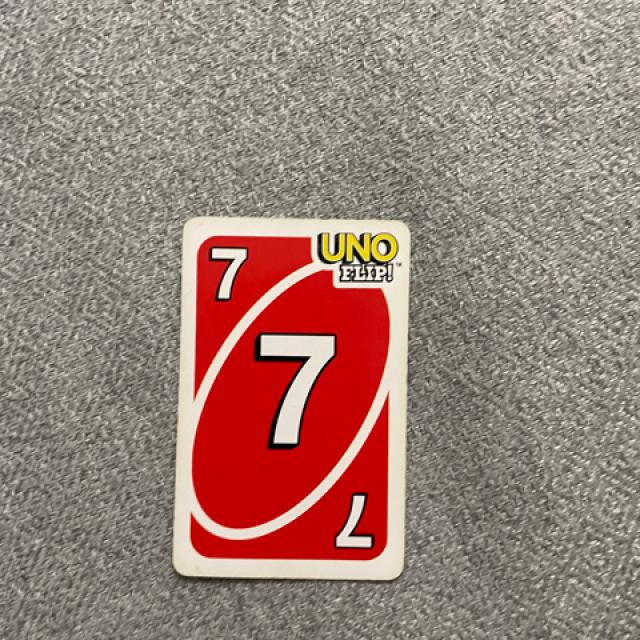lred-7: (196, 229, 263, 317)
